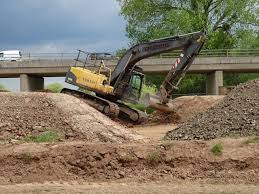excavator: (59, 31, 214, 124)
